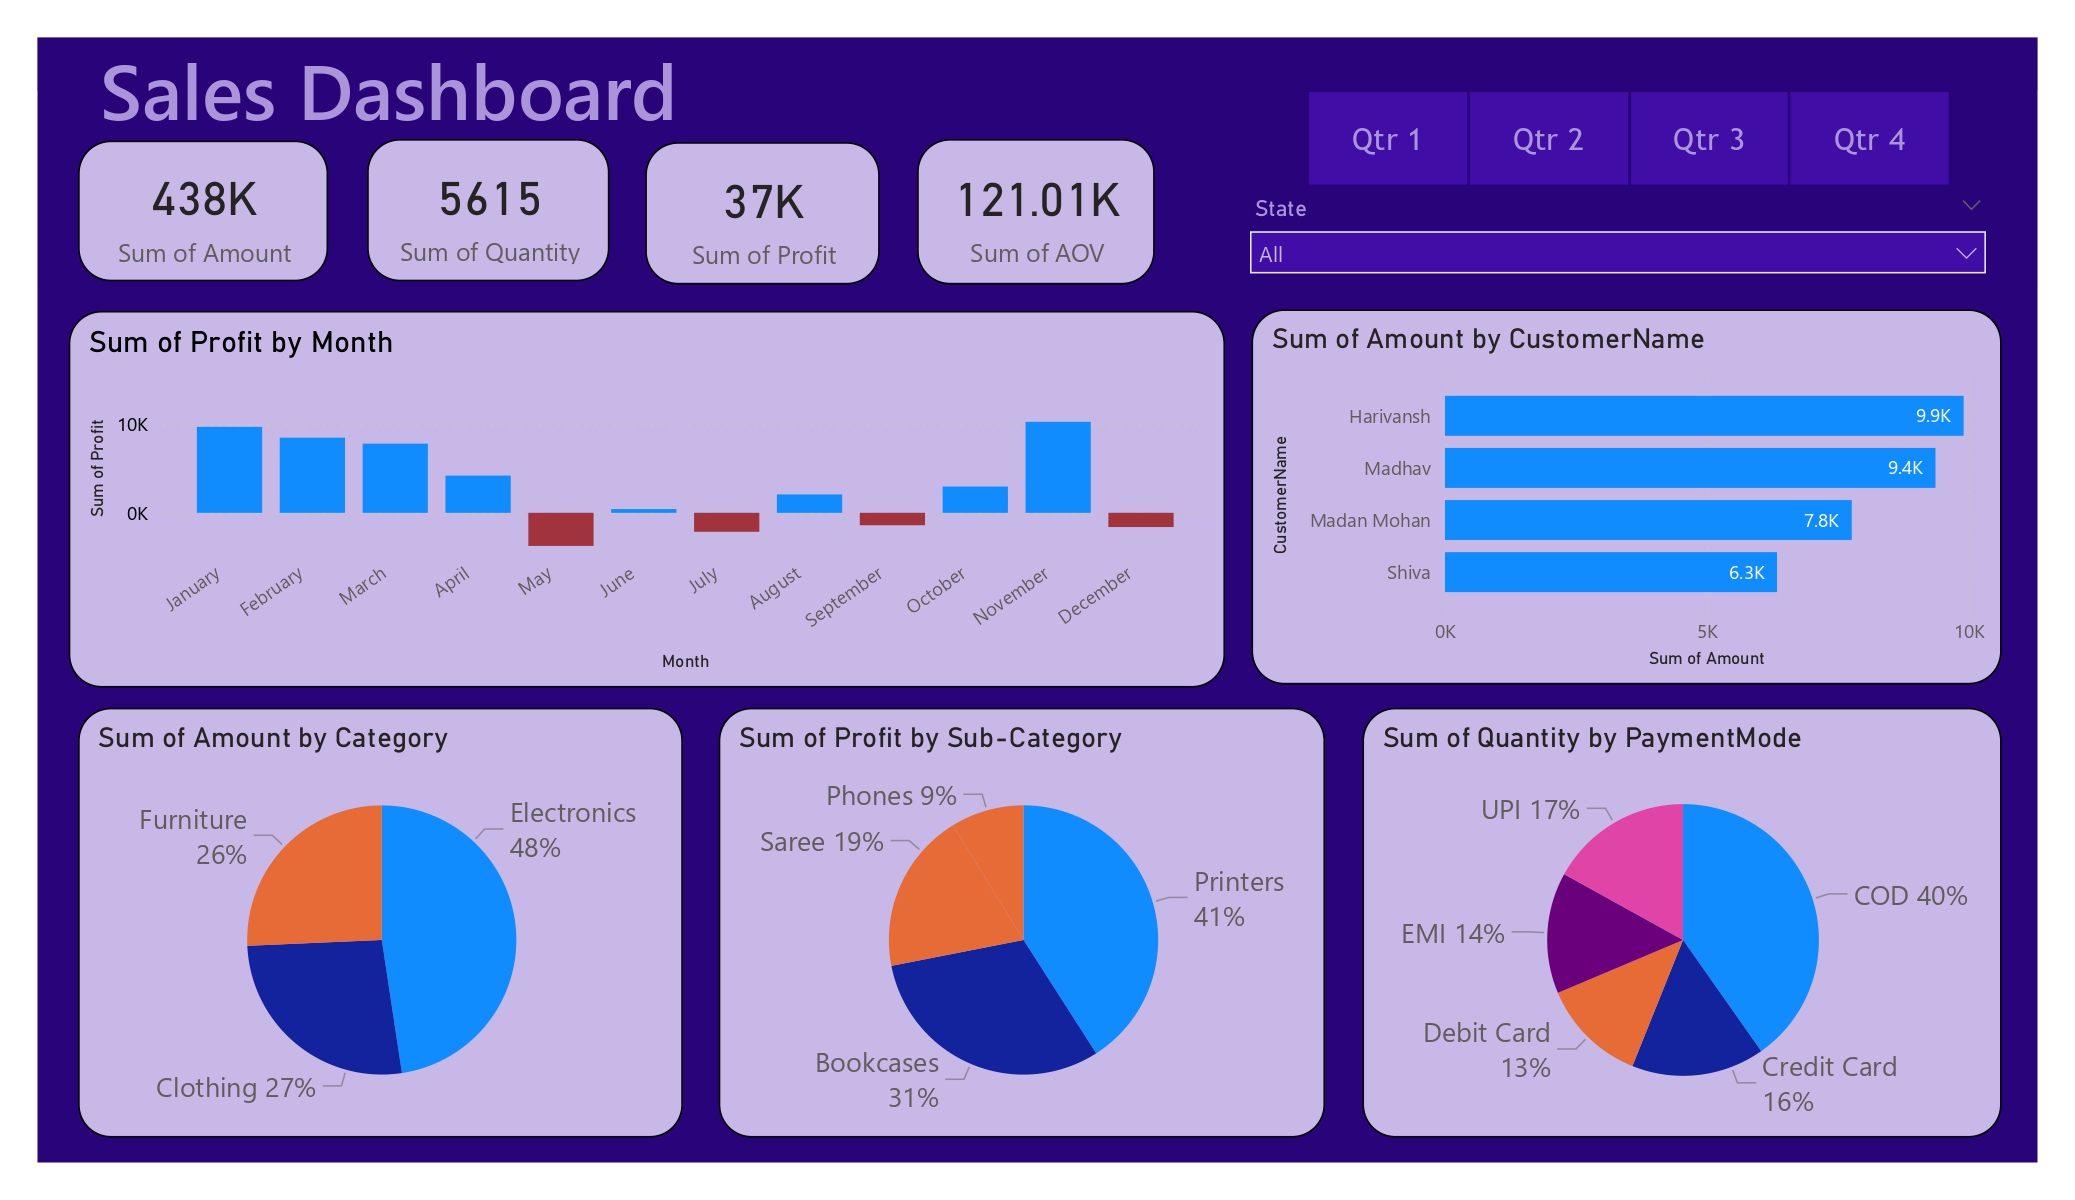

This screenshot's page, from the dashboard's own definition file:
{"tool":"powerbi","page":{"name":"Page 1","canvas":[1280,720],"ordinal":0},"visuals":[{"type":"textbox","title":"Sales Dashboard","box":[34.6,0,679.5,64.9],"z":0},{"type":"lineStackedColumnComboChart","fields":{"Category":["Orders.Order Date.Variation.Date Hierarchy.Month"],"Y":["Details.Profit"]},"box":[20.2,174.6,740.1,240.9],"z":1000},{"type":"pieChart","fields":{"Category":["Details.Sub-Category"],"Y":["Details.Profit"]},"box":[435.7,428.5,388.1,275.6],"z":2000},{"type":"barChart","fields":{"Category":["Orders.CustomerName"],"Y":["Details.Amount"]},"box":[776.5,173.5,480.7,240.4],"z":3000},{"type":"slicer","fields":{"Values":["Orders.Order Date.Variation.Date Hierarchy.Quarter"]},"box":[787.6,28.4,459.8,72.4],"z":4000},{"type":"slicer","fields":{"Values":["Orders.State"]},"box":[766.3,96.5,491,61],"z":5000},{"type":"card","fields":{"Values":["Details.Amount"]},"box":[26,66.4,160.1,89.5],"z":6000},{"type":"card","fields":{"Values":["Details.Quantity"]},"box":[211.4,65.3,154.7,90.8],"z":7000},{"type":"card","fields":{"Values":["Details.Profit"]},"box":[388.8,66.7,150.4,90.8],"z":8000},{"type":"card","fields":{"Values":["Details.AOV"]},"box":[563.4,65.3,151.8,92.2],"z":9000},{"type":"pieChart","fields":{"Y":["Details.Quantity"],"Series":["Details.PaymentMode"]},"box":[848.3,428.5,408.3,275.6],"z":10000},{"type":"pieChart","fields":{"Y":["Details.Amount"],"Category":["Details.Category"]},"box":[26,428.5,386.7,275.6],"z":11000}]}

Visuals, with their boxes on the page's 1280x720 design canvas (x1, y1, x2, y2). These are canvas units, not pixel positions in the 2075x1200 screenshot, which may show the page scaled, cropped or inside an application window:
"Sales Dashboard" textbox: (35, 0, 714, 65)
lineStackedColumnComboChart - Orders.Order Date.Variation.Date Hierarchy.Month x Details.Profit: (20, 175, 760, 416)
pieChart - Details.Sub-Category x Details.Profit: (436, 428, 824, 704)
barChart - Orders.CustomerName x Details.Amount: (776, 174, 1257, 414)
slicer - Orders.Order Date.Variation.Date Hierarchy.Quarter: (788, 28, 1247, 101)
slicer - Orders.State: (766, 96, 1257, 158)
card - Details.Amount: (26, 66, 186, 156)
card - Details.Quantity: (211, 65, 366, 156)
card - Details.Profit: (389, 67, 539, 158)
card - Details.AOV: (563, 65, 715, 158)
pieChart - Details.Quantity x Details.PaymentMode: (848, 428, 1257, 704)
pieChart - Details.Amount x Details.Category: (26, 428, 413, 704)
